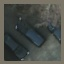car: (13, 15, 45, 46), (4, 31, 31, 61)
